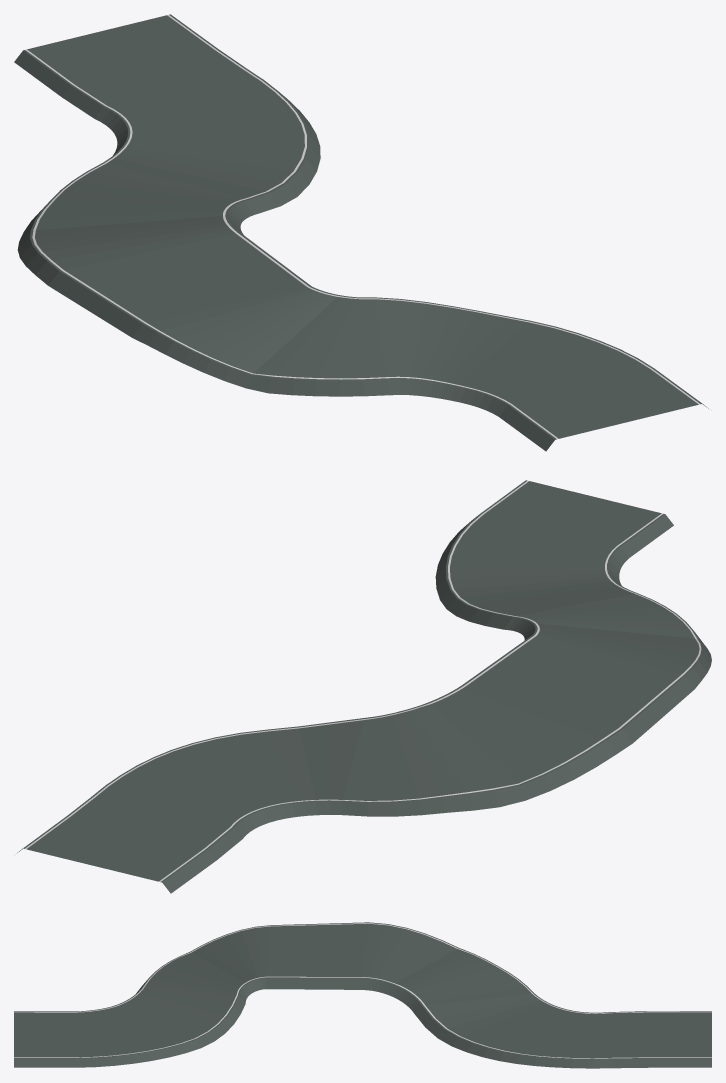
The model's file is Vawy.fbx.
3 views of the same model, one above another, from view 1: azimuth 30°, elevation 25°; view 2: azimuth 150°, elevation 25°; view 3: azimuth 270°, elevation 25° (orthographic). The views are drawn at different scales.
Parts seen in each view (by area): view 1: Plane; view 2: Plane; view 3: Plane.
Part boxes in pixels (bbox=[...]): Plane: bbox=[14, 14, 708, 451]; Plane: bbox=[17, 480, 711, 893]; Plane: bbox=[14, 922, 711, 1068].
Size of the model in its own units: 42.93 by 3.77 by 100.
